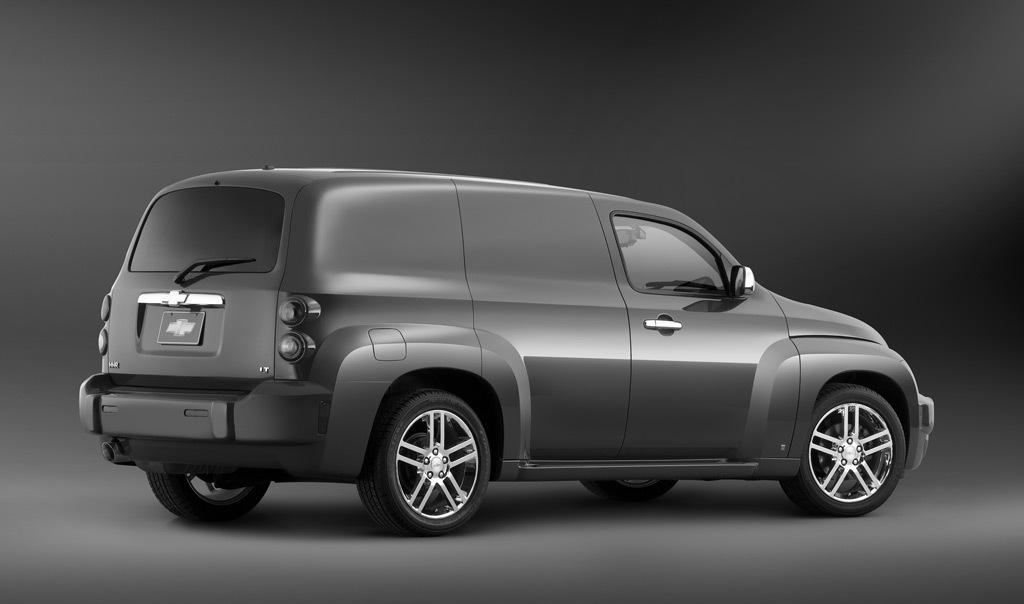car: (78, 167, 936, 539)
